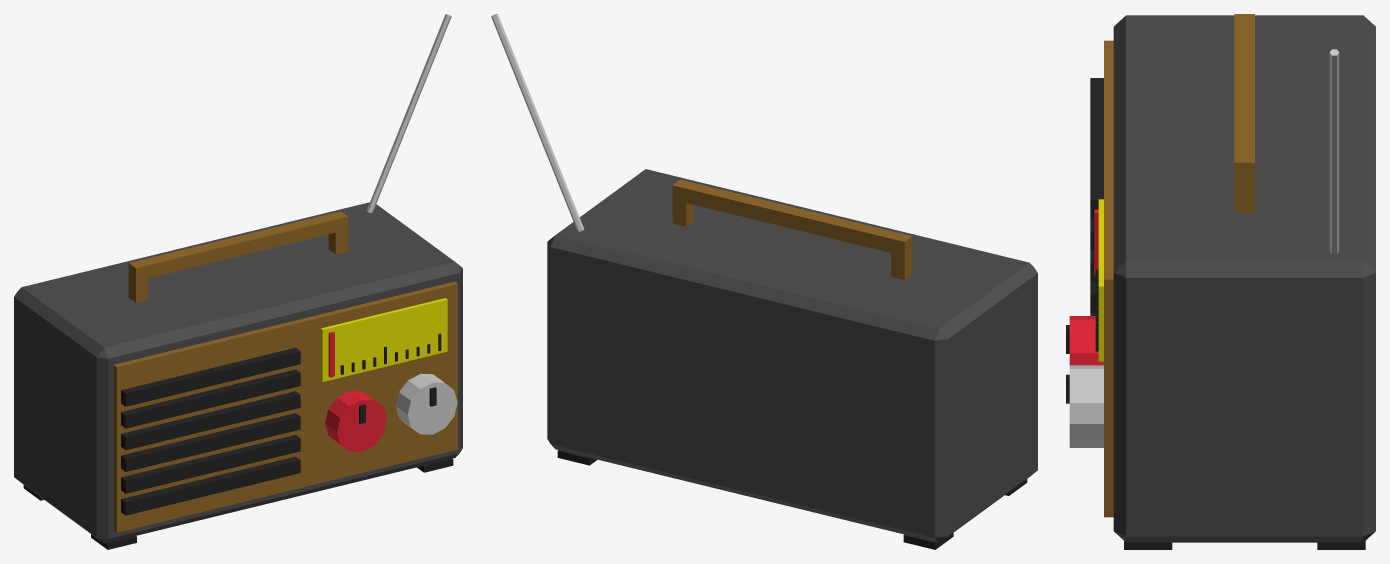
The model's file is radio.glb.
3 views of the same model, side by side, from view 1: azimuth 30°, elevation 25°; view 2: azimuth 150°, elevation 25°; view 3: azimuth 270°, elevation 25° (orthographic). The views are drawn at different scales.
Parts seen in each view (by area): view 1: model; view 2: model; view 3: model.
Boxes of the visible parts, x1=… form: model: x1=14, y1=14, x2=462, y2=549; model: x1=491, y1=14, x2=1037, y2=549; model: x1=1066, y1=14, x2=1375, y2=549.
Size of the model in its own units: 10.26 by 8.75 by 4.49.
